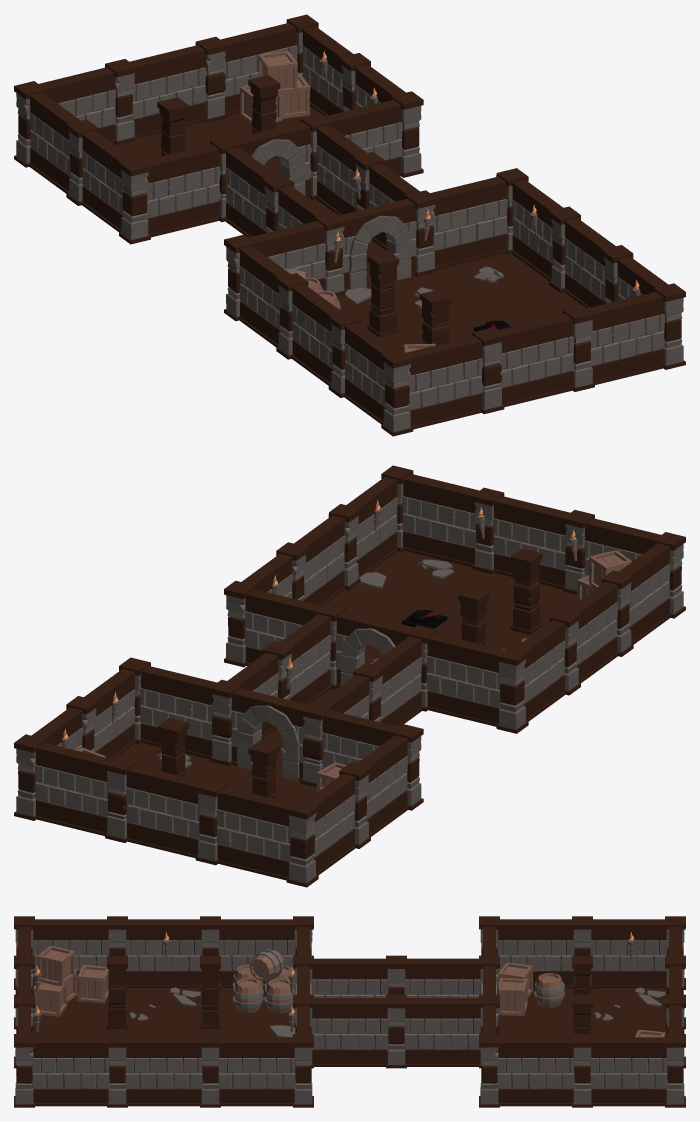
The model's file is nivel.fbx.
3 renders of one model, top to bottom at view 1: azimuth 30°, elevation 25°; view 2: azimuth 150°, elevation 25°; view 3: azimuth 270°, elevation 25°, orthographic. The views are drawn at different scales.
Parts seen in each view (by area): view 1: Cube.028, Cube.027, Cube.034, Cube.006, Cube.015, Cube.023, Cube.016, Cube.029, Cube.009, Cube.013, Cube.031, Cube.017 (+27 smaller); view 2: Cube.032, Cube.019, Cube.009, Cube.006, Cube.027, Cube.034, Cube.014, Cube.013, Cube.030, Cube.016, Cube.017, Cube.031 (+25 smaller); view 3: Cube.011, Cube.024, Cube.026, Cube.025, Cube.012, Cube.007, Cube.017, Cube.030, Cube.008, Cube.016, Cube.031, Cube.020 (+37 smaller).
Part boxes in pixels (left/top/right/bottom): Cube.028: left=406, top=327, right=504, bottom=429; Cube.027: left=588, top=283, right=685, bottom=384; Cube.034: left=497, top=305, right=594, bottom=407; Cube.006: left=105, top=45, right=207, bottom=145; Cube.015: left=143, top=135, right=241, bottom=237; Cube.023: left=430, top=176, right=507, bottom=269; Cube.016: left=82, top=131, right=150, bottom=244; Cube.029: left=344, top=323, right=413, bottom=436; Cube.009: left=195, top=23, right=297, bottom=123; Cube.013: left=325, top=91, right=423, bottom=177; Cube.031: left=239, top=246, right=308, bottom=359; Cube.017: left=29, top=92, right=98, bottom=205; Cube.032: left=426, top=633, right=528, bottom=733; Cube.019: left=216, top=787, right=318, bottom=887; Cube.009: left=34, top=743, right=136, bottom=842; Cube.006: left=125, top=765, right=227, bottom=865; Cube.027: left=381, top=465, right=479, bottom=567; Cube.034: left=472, top=487, right=570, bottom=589; Cube.014: left=209, top=679, right=307, bottom=781; Cube.013: left=119, top=657, right=216, bottom=759; Cube.030: left=566, top=570, right=633, bottom=683; Cube.016: left=357, top=724, right=423, bottom=836; Cube.017: left=304, top=762, right=371, bottom=875; Cube.031: left=514, top=609, right=580, bottom=721; Cube.011: left=590, top=1034, right=685, bottom=1107; Cube.024: left=218, top=1034, right=313, bottom=1107; Cube.026: left=32, top=1034, right=127, bottom=1107; Cube.025: left=125, top=1034, right=220, bottom=1107; Cube.012: left=497, top=1034, right=592, bottom=1107; Cube.007: left=386, top=994, right=481, bottom=1068; Cube.017: left=572, top=916, right=667, bottom=989; Cube.030: left=107, top=916, right=202, bottom=989; Cube.008: left=293, top=994, right=388, bottom=1068; Cube.016: left=479, top=916, right=574, bottom=988; Cube.031: left=200, top=916, right=295, bottom=989; Cube.020: left=386, top=955, right=480, bottom=997.
Size of the model in its own units: 1290 by 320 by 2890.
